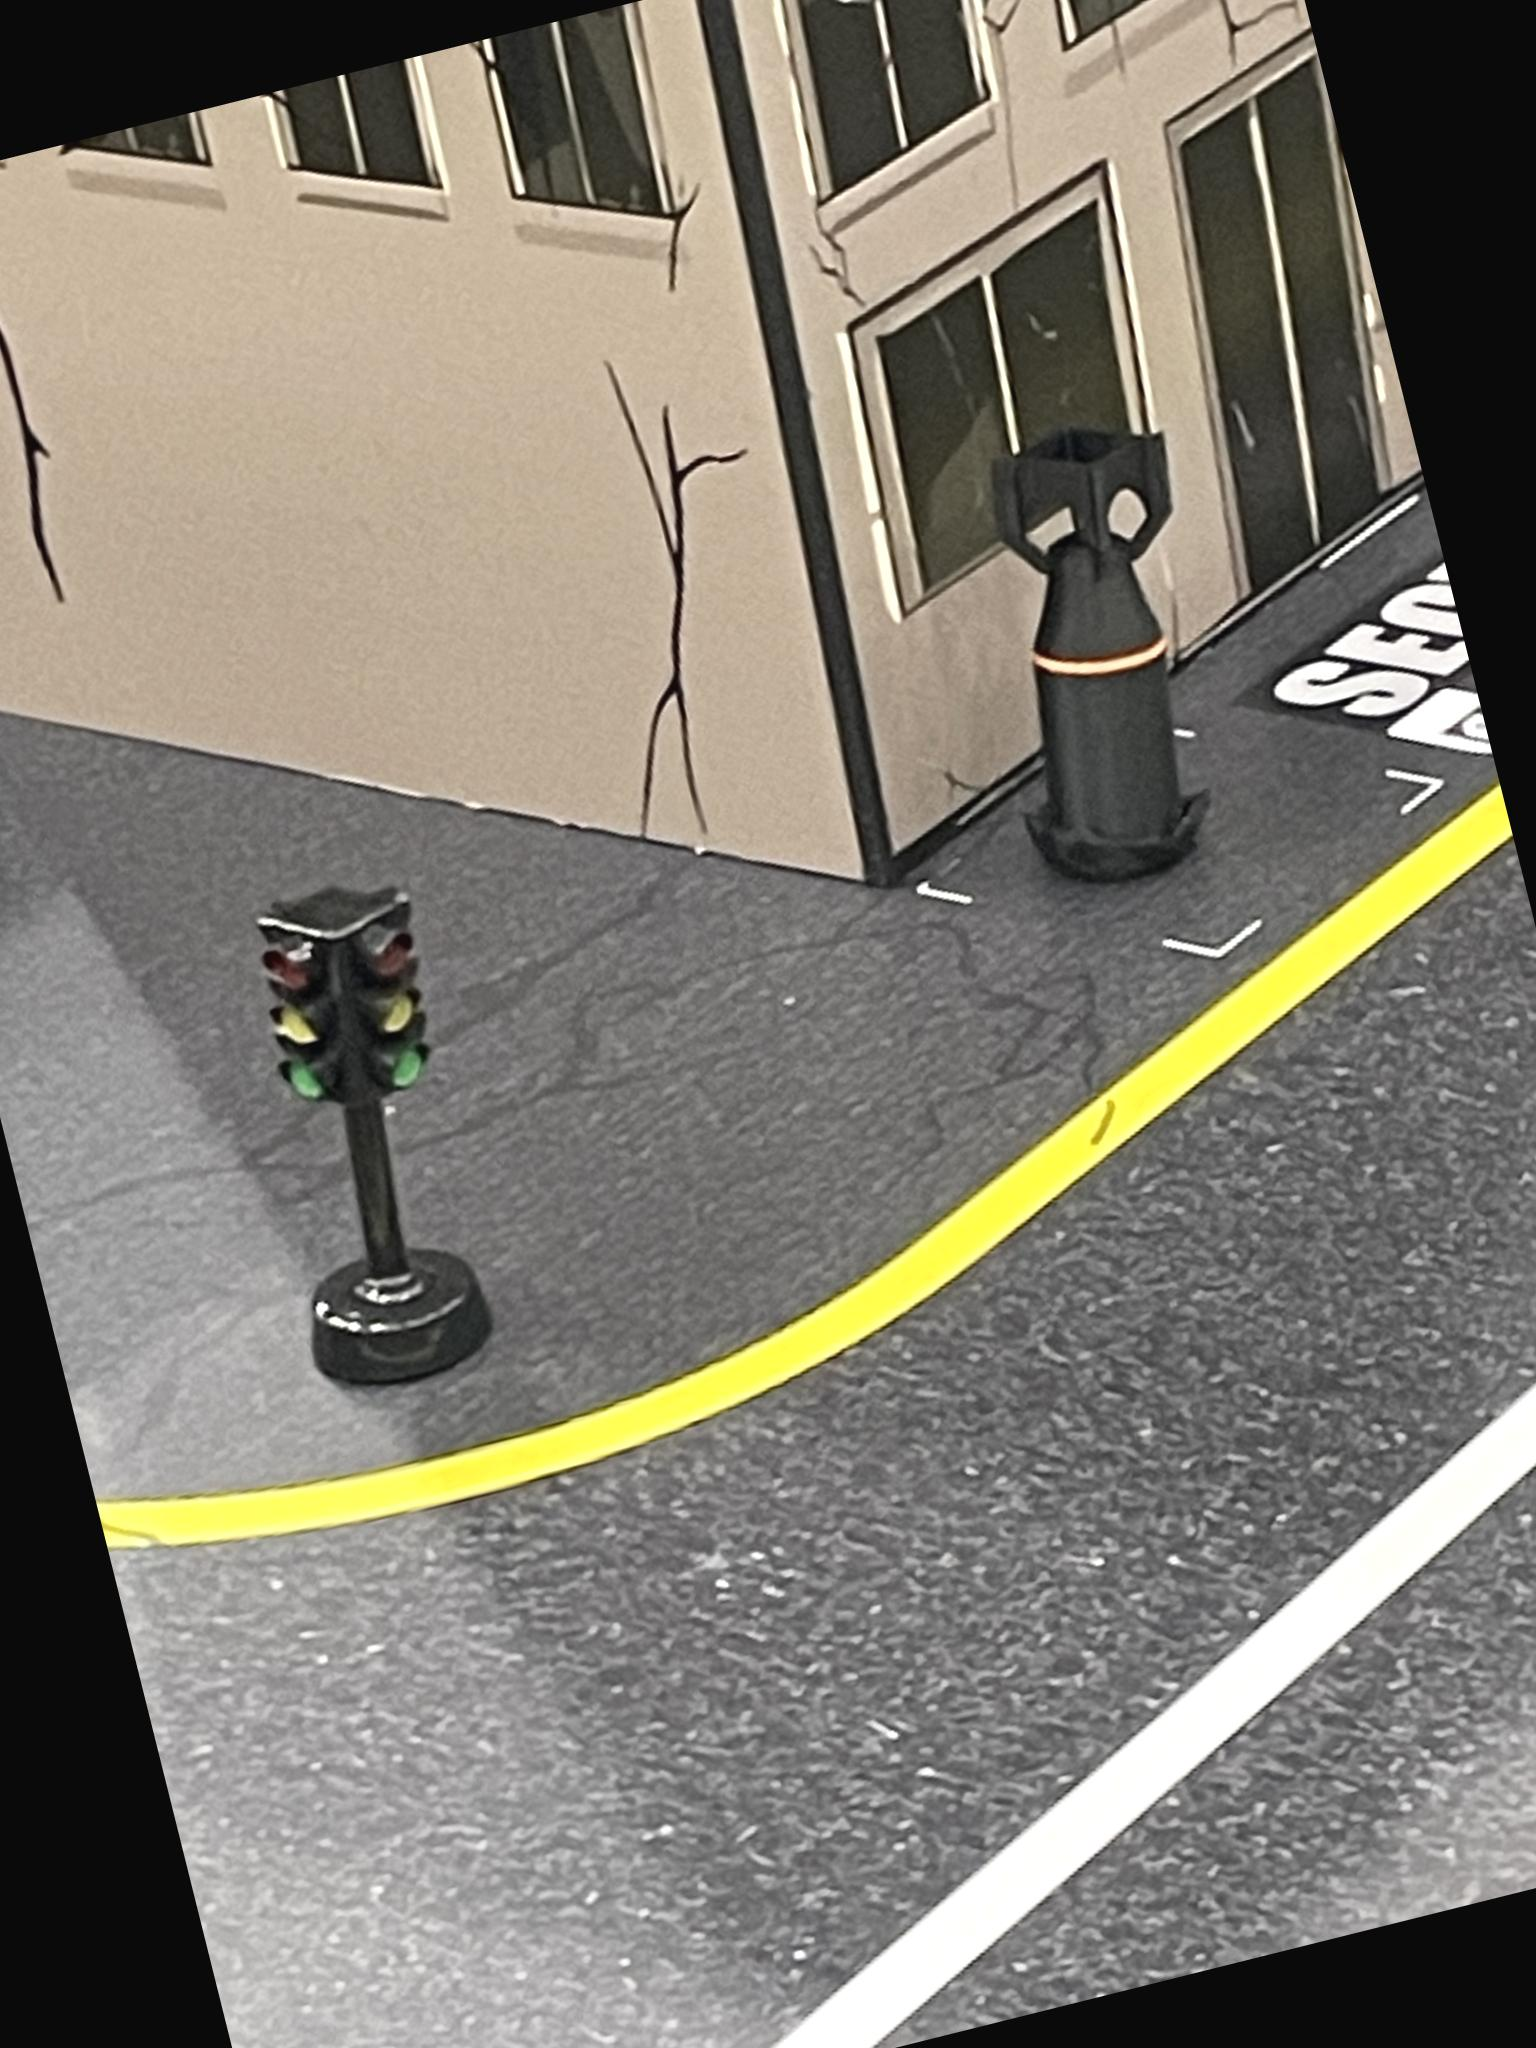Missile: (928, 398, 1270, 913)
